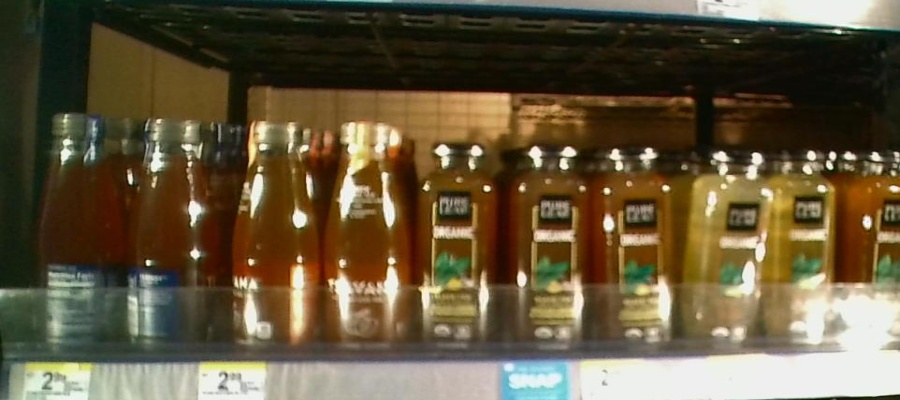bottle: (36, 109, 127, 351), (130, 115, 219, 354), (229, 119, 320, 346), (326, 115, 412, 354), (415, 125, 499, 348), (595, 131, 678, 353), (508, 133, 589, 349), (690, 142, 772, 348), (777, 146, 837, 347), (843, 151, 900, 349)
